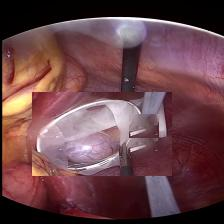Grasper: (128, 114, 158, 139), (116, 102, 132, 124)
Specimen Bag: (31, 92, 171, 176)
